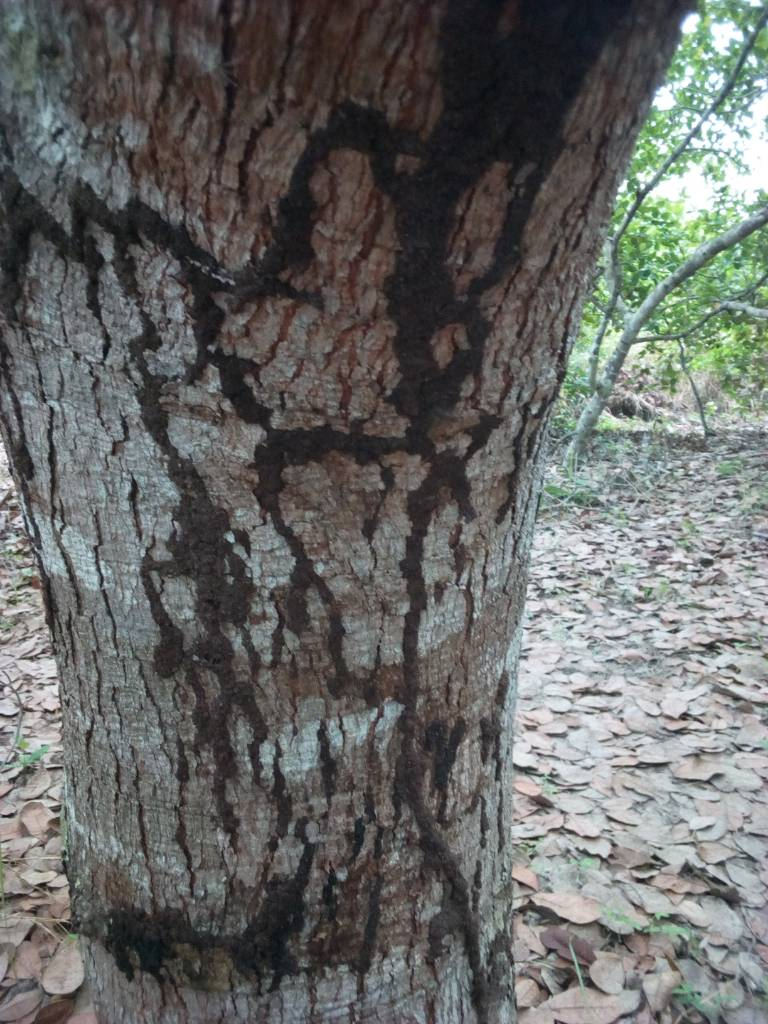Termites: (68, 183, 379, 835), (390, 7, 507, 689), (368, 738, 522, 1005)
